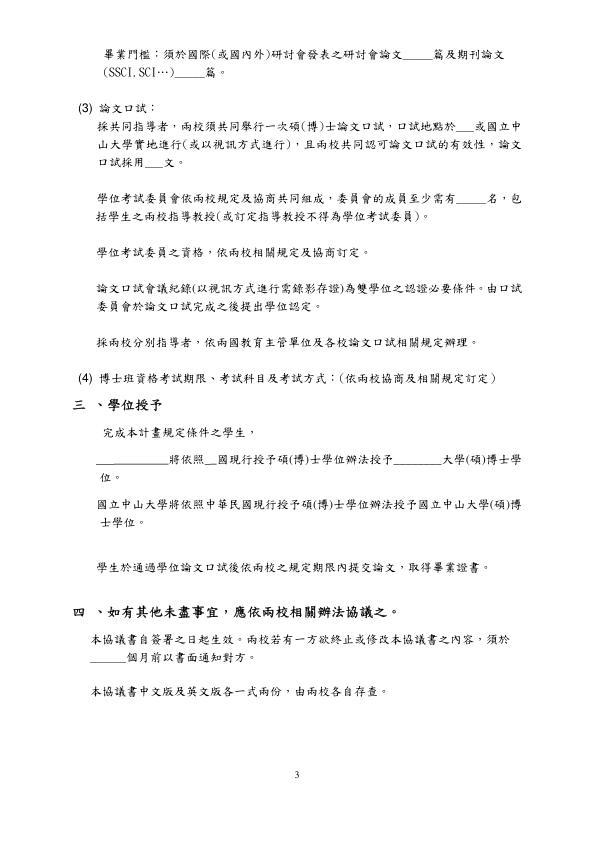input: (95, 449, 168, 470), (393, 453, 442, 469), (90, 651, 127, 667), (176, 63, 205, 82), (455, 191, 484, 207), (404, 47, 433, 62), (144, 154, 162, 171), (456, 121, 474, 134), (207, 451, 218, 468)
text: (90, 282, 524, 319), (93, 558, 494, 578), (94, 138, 526, 155), (95, 496, 523, 512), (75, 371, 501, 387), (88, 632, 510, 648), (92, 335, 479, 352), (95, 208, 431, 227), (88, 682, 389, 703), (93, 190, 454, 207), (67, 605, 402, 621), (96, 242, 369, 261), (95, 120, 457, 134), (219, 447, 393, 474), (105, 46, 401, 61), (98, 425, 259, 442), (125, 651, 259, 667), (70, 394, 168, 414), (442, 446, 521, 470), (101, 63, 175, 83), (435, 44, 504, 63), (75, 100, 157, 114), (476, 116, 522, 134), (97, 516, 148, 532), (92, 155, 143, 168), (488, 188, 522, 207), (170, 451, 204, 467), (207, 63, 226, 81), (163, 154, 185, 169), (99, 471, 121, 485)
